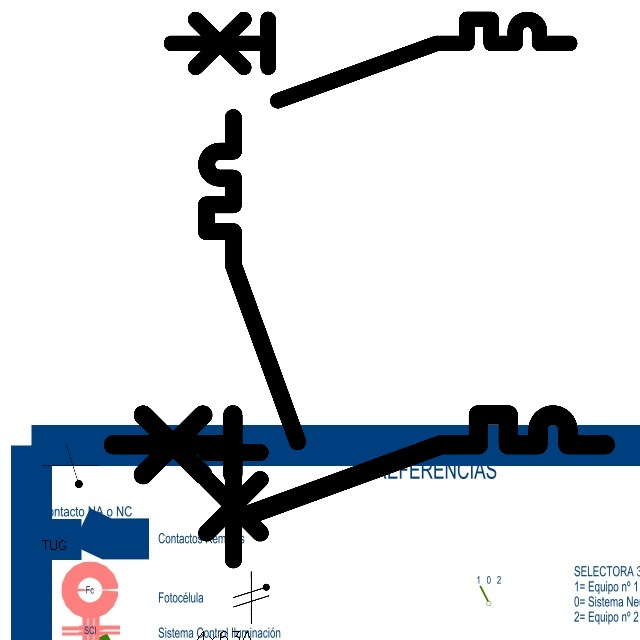interruptor_termomagnetico: (100, 402, 618, 528), (195, 106, 309, 571), (161, 9, 580, 111)
